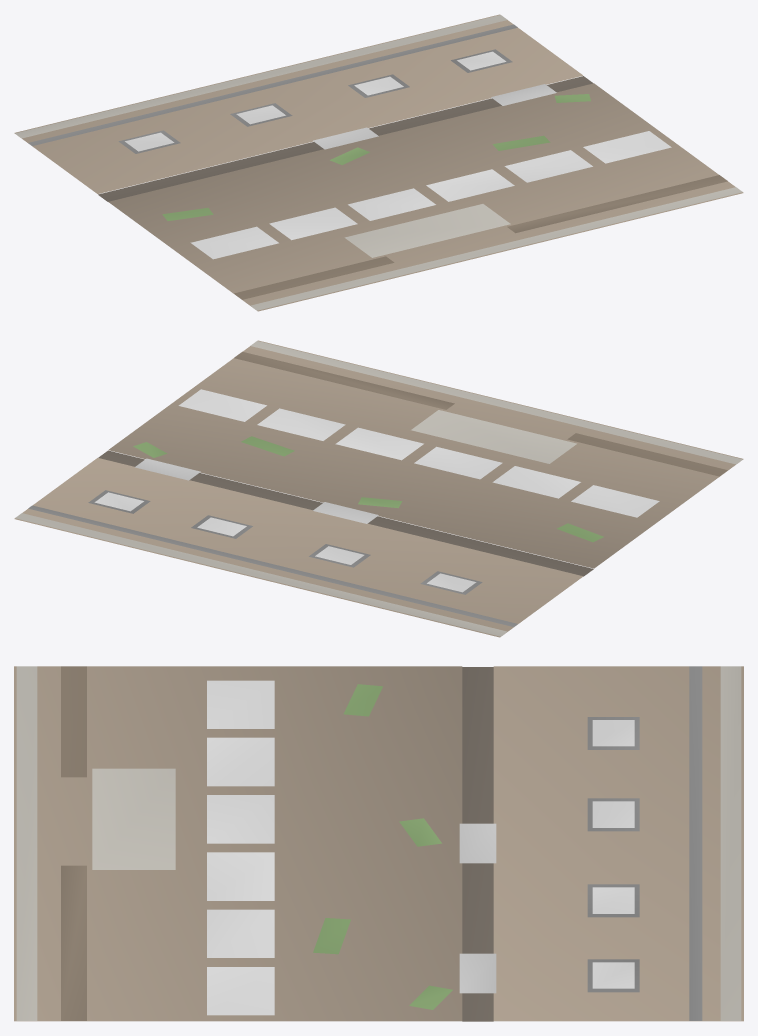
Rendered from utility_verge.glb.
3 views of the same model, one above another, from view 1: azimuth 30°, elevation 25°; view 2: azimuth 150°, elevation 25°; view 3: azimuth 270°, elevation 25° (orthographic). The views are drawn at different scales.
Visible parts, largest first — view 1: utility_verge; view 2: utility_verge; view 3: utility_verge.
Boxes of the visible parts, <box> form: utility_verge: <box>14,14,743,311</box>; utility_verge: <box>14,340,743,637</box>; utility_verge: <box>14,666,743,1021</box>.
Bounding box in the file's own units: 16.1 × 0.023 × 14.
